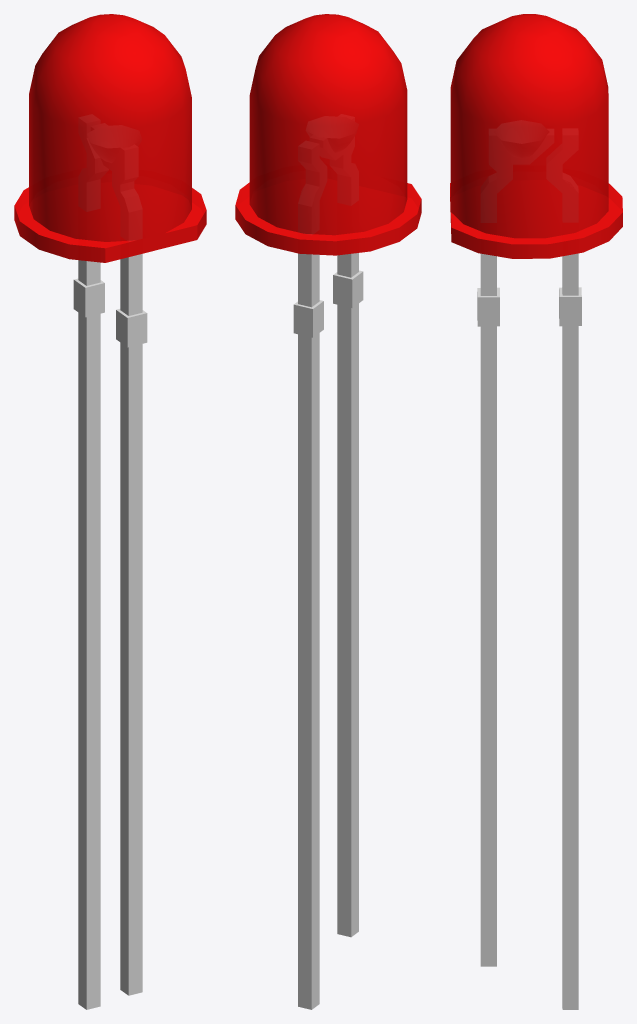
The model's file is LED.fbx.
The picture shows the model from 3 angles, left to right: view 1: azimuth 30°, elevation 25°; view 2: azimuth 150°, elevation 25°; view 3: azimuth 270°, elevation 25°; orthographic projection. The views are drawn at different scales.
Visible parts, largest first — view 1: Diode-Light-Emitting, Legs; view 2: Diode-Light-Emitting, Legs; view 3: Diode-Light-Emitting, Legs.
Part boxes in pixels (x1,y1,x2,y2): Diode-Light-Emitting: (14,14,206,262); Legs: (73,254,147,1009); Diode-Light-Emitting: (235,14,421,255); Legs: (293,253,363,1009); Diode-Light-Emitting: (450,14,622,258); Legs: (477,253,581,1009).
Size of the model in its own units: 0.5801 by 3.38 by 0.5375.
